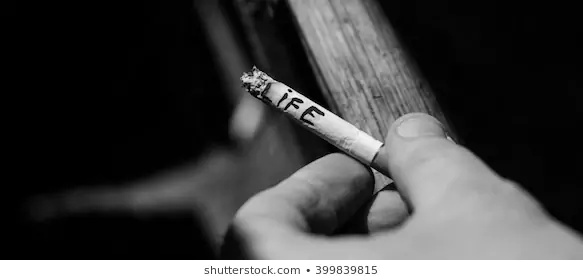sigaretta: (248, 70, 375, 175)
